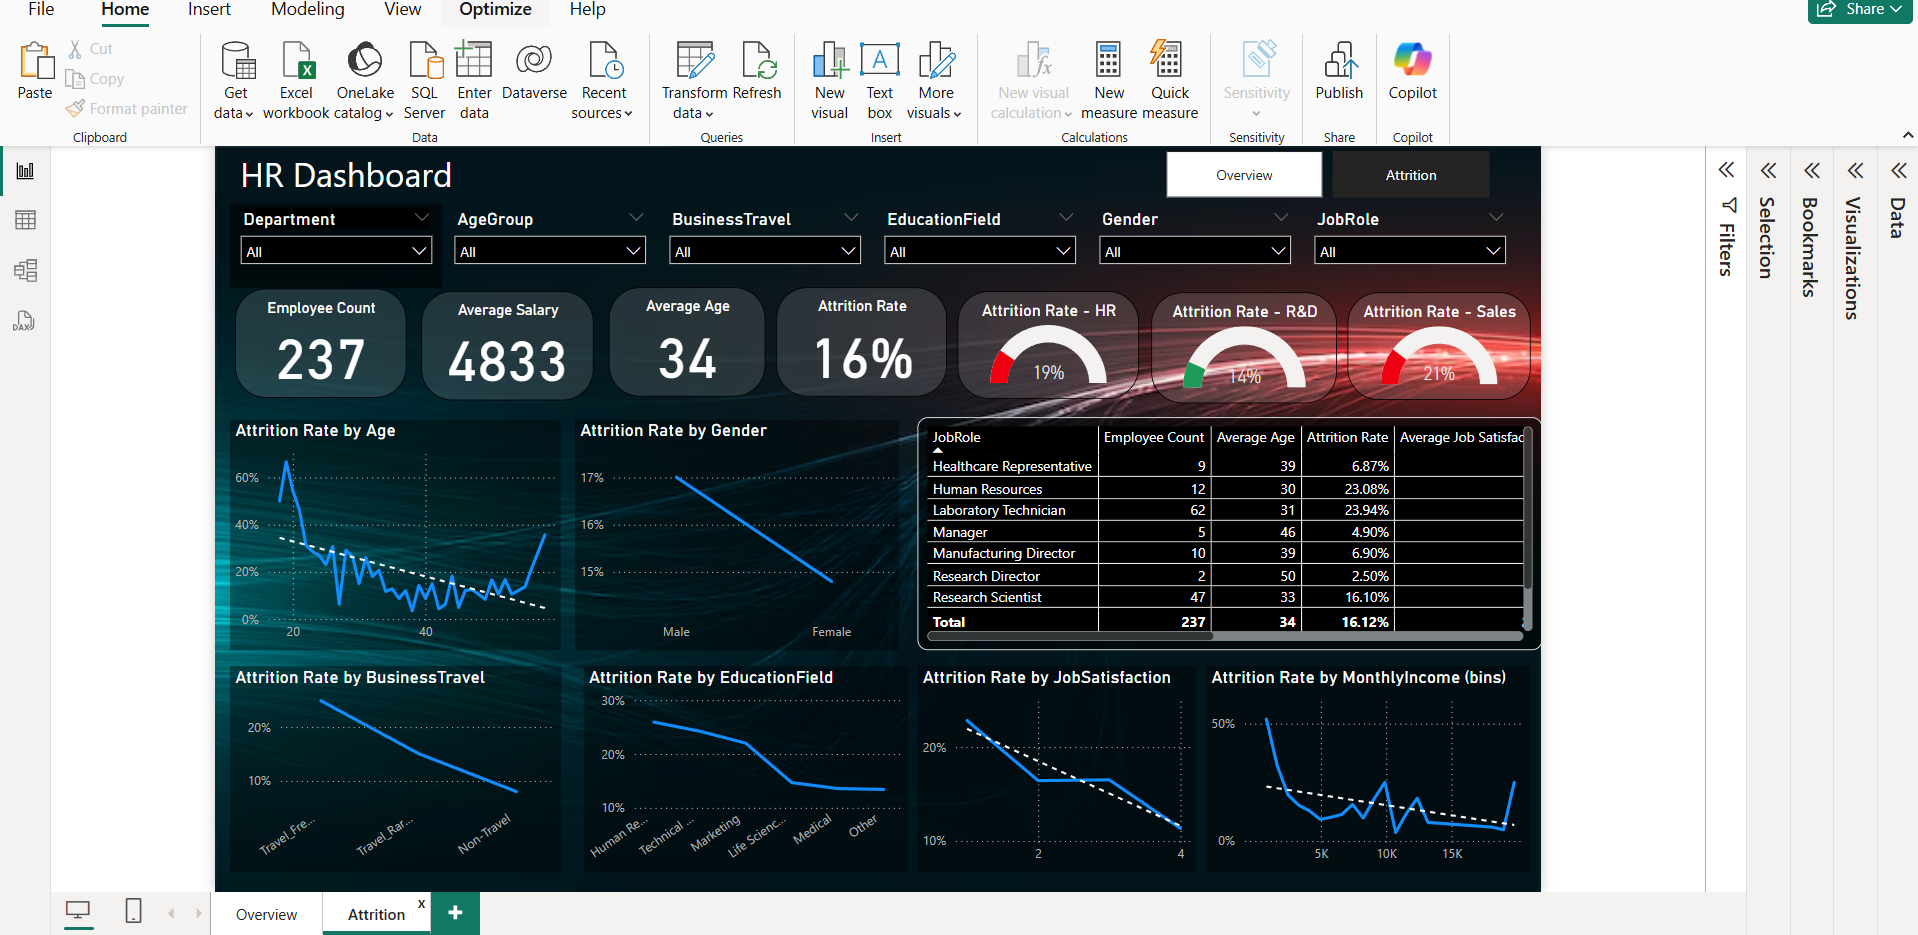

Layout of this report page (visuals, bound fields, positions):
{"tool":"powerbi","page":{"name":"Attrition","canvas":[1280,720],"ordinal":1},"visuals":[{"type":"slicer","fields":{"Values":["HR_Analytics.Department"]},"box":[13.9,55.6,205,81.9],"z":0},{"type":"slicer","title":"Department","fields":{"Values":["HR_Analytics.AgeGroup"]},"box":[220.9,55.6,205.6,81.9],"z":1000},{"type":"slicer","title":"Department","fields":{"Values":["HR_Analytics.BusinessTravel"]},"box":[428.6,55.6,205.6,81.9],"z":2000},{"type":"slicer","title":"Department","fields":{"Values":["HR_Analytics.EducationField"]},"box":[636.2,55.6,205.6,81.9],"z":3000},{"type":"slicer","title":"Department","fields":{"Values":["HR_Analytics.Gender"]},"box":[843.8,55.6,205.6,81.9],"z":4000},{"type":"textbox","box":[19.4,0,454.2,55.6],"z":5000},{"type":"slicer","title":"Department","fields":{"Values":["HR_Analytics.JobRole"]},"box":[1051.4,55.6,205.6,81.9],"z":6000},{"type":"card","title":"Employee Count","fields":{"Values":["HR_Analytics.Employee Count"]},"box":[19.4,137.5,165.3,105.6],"z":7000},{"type":"card","title":"Average Salary","fields":{"Values":["HR_Analytics.Average Salary"]},"box":[198.8,139.5,166.2,105.3],"z":8000},{"type":"card","title":"Attrition Rate","fields":{"Values":["HR_Analytics.Attrition Rate"]},"box":[541.5,136.5,164.7,105.3],"z":9000},{"type":"card","title":"Average Age","fields":{"Values":["HR_Analytics.Average Age"]},"box":[379.8,136.5,151.3,105.3],"z":10000},{"type":"tableEx","fields":{"Values":["HR_Analytics.JobRole","HR_Analytics.Employee Count","HR_Analytics.Average Age","HR_Analytics.Attrition Rate","HR_Analytics.Average Job Satisfaction","HR_Analytics.Average Salary","HR_Analytics.Average Salary Hike","HR_Analytics.Gender Ratio","HR_Analytics.Overtime %","HR_Analytics.Average Years","HR_Analytics.Attrition Count"]},"box":[677.4,261.7,602.8,225],"z":11000},{"type":"gauge","title":"Attrition Rate - HR","fields":{"Y":["HR_Analytics.Attrition Rate"]},"box":[716.6,139.5,175.1,103.8],"z":12000},{"type":"gauge","title":"Attrition Rate - R&D","fields":{"Y":["HR_Analytics.Attrition Rate"]},"box":[903.5,140.9,179.5,106.8],"z":13000},{"type":"gauge","title":"Attrition Rate - Sales","fields":{"Y":["HR_Analytics.Attrition Rate"]},"box":[1093.4,140.9,176.5,103.8],"z":14000},{"type":"lineChart","fields":{"Y":["HR_Analytics.Attrition Rate"],"Category":["HR_Analytics.Age"]},"box":[14.7,264.1,319.1,222.5],"z":15000},{"type":"lineChart","fields":{"Y":["HR_Analytics.Attrition Rate"],"Category":["HR_Analytics.BusinessTravel"]},"box":[14.5,501.9,319.7,199.1],"z":16000},{"type":"lineChart","fields":{"Y":["HR_Analytics.Attrition Rate"],"Category":["HR_Analytics.EducationField"]},"box":[355.9,501.9,312.5,199.1],"z":17000},{"type":"lineChart","fields":{"Y":["HR_Analytics.Attrition Rate"],"Category":["HR_Analytics.Gender"]},"box":[347.3,264.1,313,222.5],"z":18000},{"type":"lineChart","fields":{"Y":["HR_Analytics.Attrition Rate"],"Category":["HR_Analytics.JobSatisfaction"]},"box":[678,501.9,269,199.1],"z":19000},{"type":"lineChart","fields":{"Y":["HR_Analytics.Attrition Rate"],"Category":["HR_Analytics.MonthlyIncome (bins)"]},"box":[956.7,501.9,312.5,199.1],"z":20000},{"type":"pageNavigator","box":[918.3,4.9,313,45.2],"z":21000}]}

Visuals, with their boxes on the page's 1280x720 design canvas (x1, y1, x2, y2). These are canvas units, not pixel positions in the 1918x935 screenshot, which may show the page scaled, cropped or inside an application window:
slicer - HR_Analytics.Department: box(14, 56, 219, 138)
"Department" slicer: box(221, 56, 426, 138)
"Department" slicer: box(429, 56, 634, 138)
"Department" slicer: box(636, 56, 842, 138)
"Department" slicer: box(844, 56, 1049, 138)
textbox: box(19, 0, 474, 56)
"Department" slicer: box(1051, 56, 1257, 138)
"Employee Count" card: box(19, 138, 185, 243)
"Average Salary" card: box(199, 140, 365, 245)
"Attrition Rate" card: box(542, 136, 706, 242)
"Average Age" card: box(380, 136, 531, 242)
tableEx - HR_Analytics.JobRole x HR_Analytics.Employee Count: box(677, 262, 1280, 487)
"Attrition Rate - HR" gauge: box(717, 140, 892, 243)
"Attrition Rate - R&D" gauge: box(904, 141, 1083, 248)
"Attrition Rate - Sales" gauge: box(1093, 141, 1270, 245)
lineChart - HR_Analytics.Attrition Rate x HR_Analytics.Age: box(15, 264, 334, 487)
lineChart - HR_Analytics.Attrition Rate x HR_Analytics.BusinessTravel: box(14, 502, 334, 701)
lineChart - HR_Analytics.Attrition Rate x HR_Analytics.EducationField: box(356, 502, 668, 701)
lineChart - HR_Analytics.Attrition Rate x HR_Analytics.Gender: box(347, 264, 660, 487)
lineChart - HR_Analytics.Attrition Rate x HR_Analytics.JobSatisfaction: box(678, 502, 947, 701)
lineChart - HR_Analytics.Attrition Rate x HR_Analytics.MonthlyIncome (bins): box(957, 502, 1269, 701)
pageNavigator: box(918, 5, 1231, 50)
